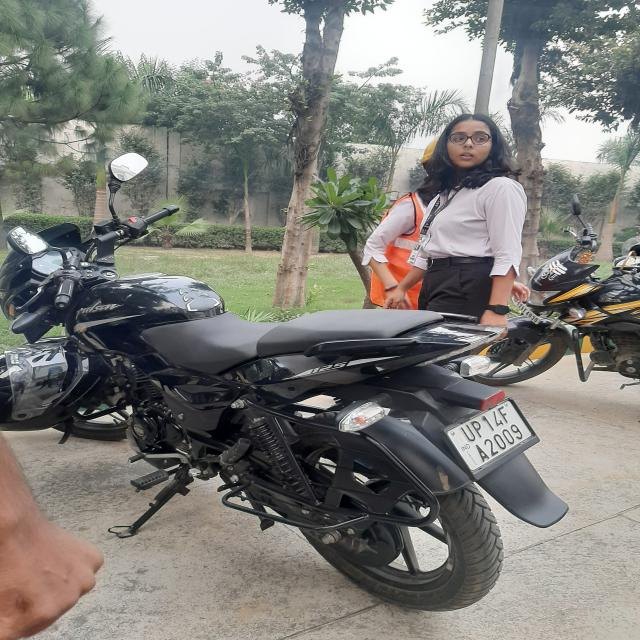safe: (364, 135, 446, 311)
unsafe: (399, 113, 528, 370)
